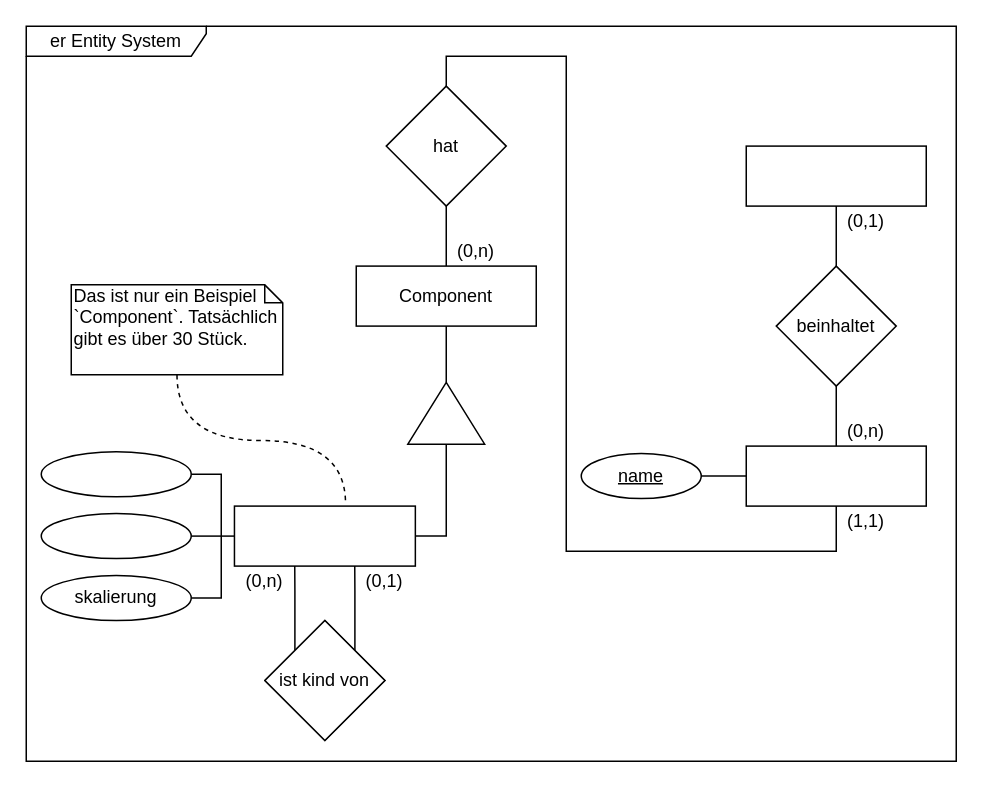
The diagram is 983 pixels wide and 788 high, and some of its shapes have lost their labels. The centre of each missing label's shape, as x and y in pixels:
GameObject: the point at 835,475
position: the point at 115,473
rotation: the point at 115,535
Scene: the point at 835,175
Transform: the point at 324,535
